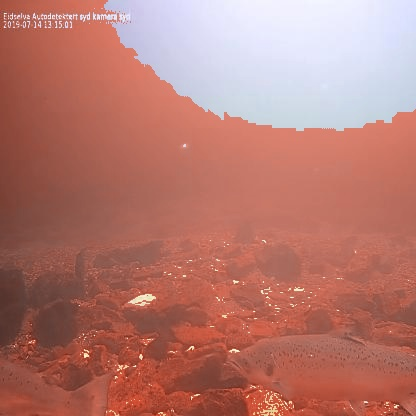salmon: (224, 316, 416, 416)
